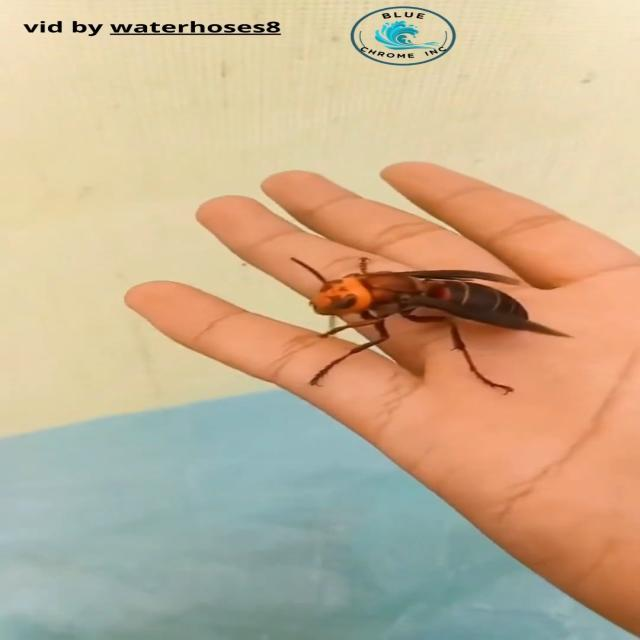Hornets: (290, 255, 576, 395)
